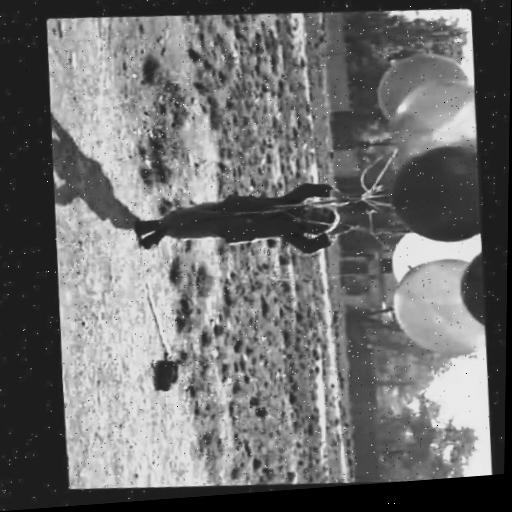balloon: (384, 248, 484, 358), (383, 134, 480, 243), (382, 71, 478, 170), (373, 43, 473, 123), (386, 221, 480, 283), (454, 245, 484, 322)
